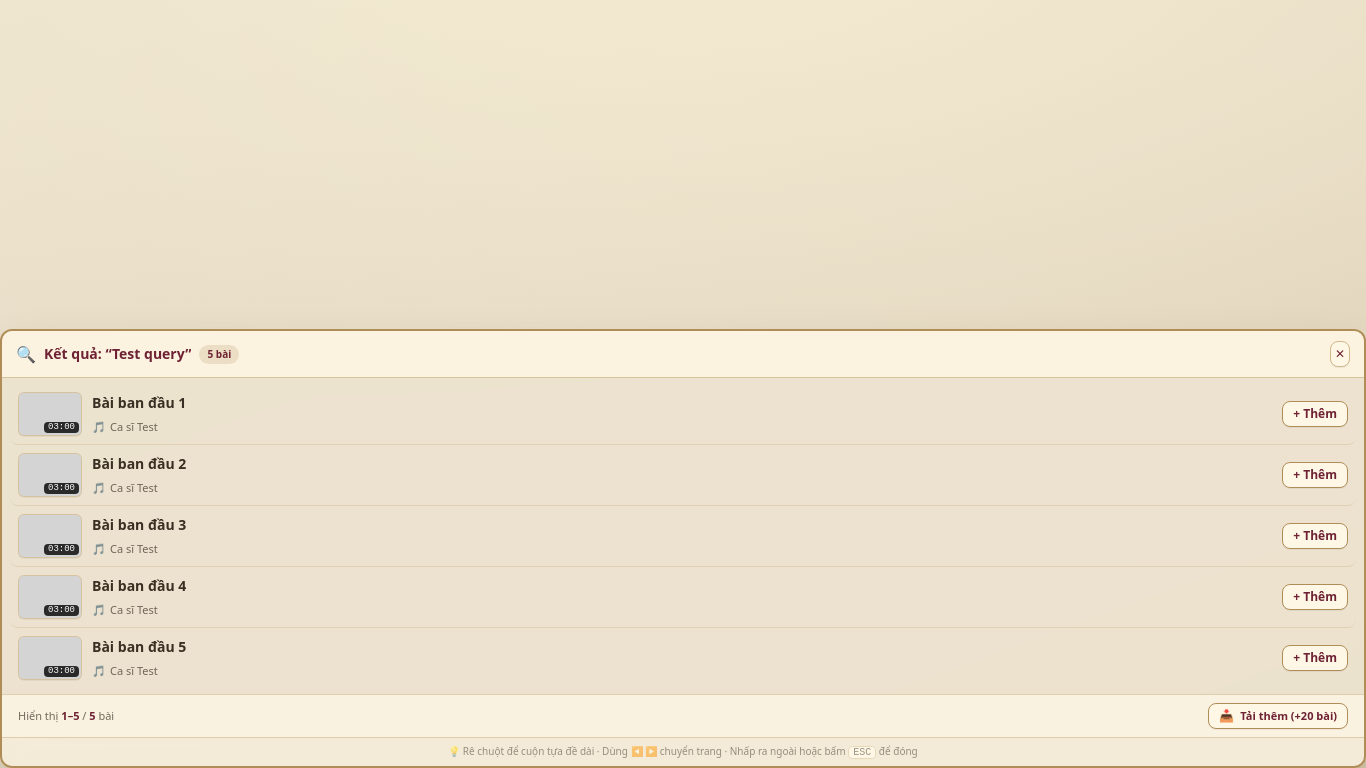
Test: SearchResults overlay card › renders Load More button when continuation token exists and loads more results
(page scrolled)
Click the button "📥 Tải thêm (+20 bài)".
click(1278, 716)  # box [1208, 703, 1348, 729]
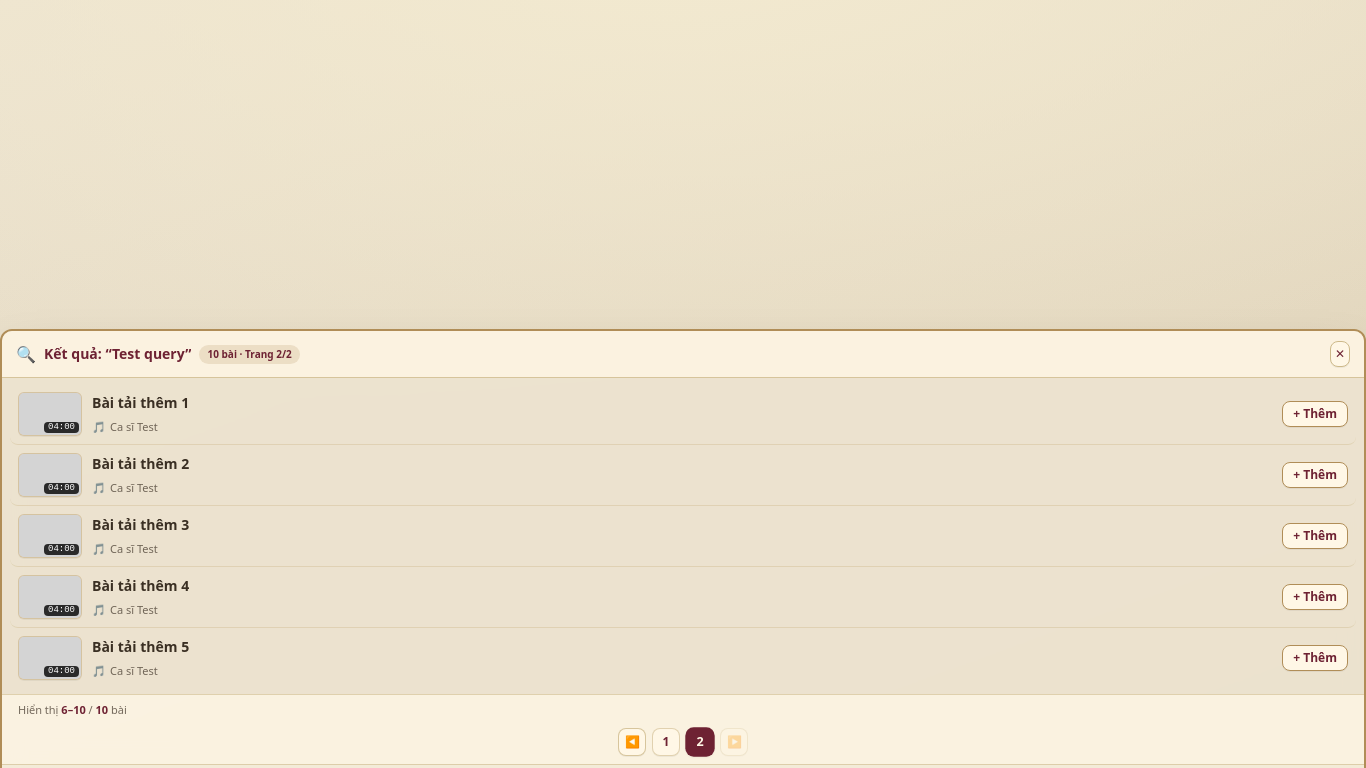
expect the text "Hiển thị 6–10 / 10 bài" is shown: met, box [18, 703, 127, 718]
expect the text "Bài tải thêm 1" is shown: met, box [92, 393, 189, 412]
